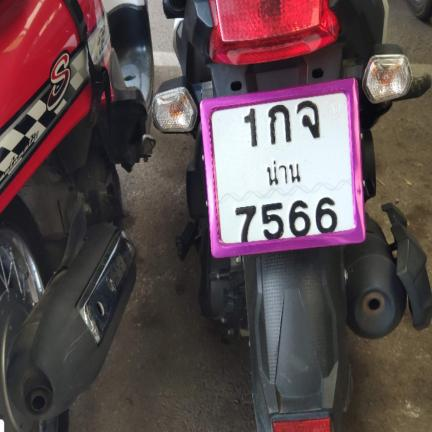1: (238, 106, 261, 150)
5: (260, 200, 286, 239)
6: (314, 194, 341, 234), (288, 198, 311, 237)
7: (234, 203, 257, 242)
A01: (264, 104, 294, 145)
A08: (295, 99, 323, 140)
NAN: (261, 155, 303, 186)
